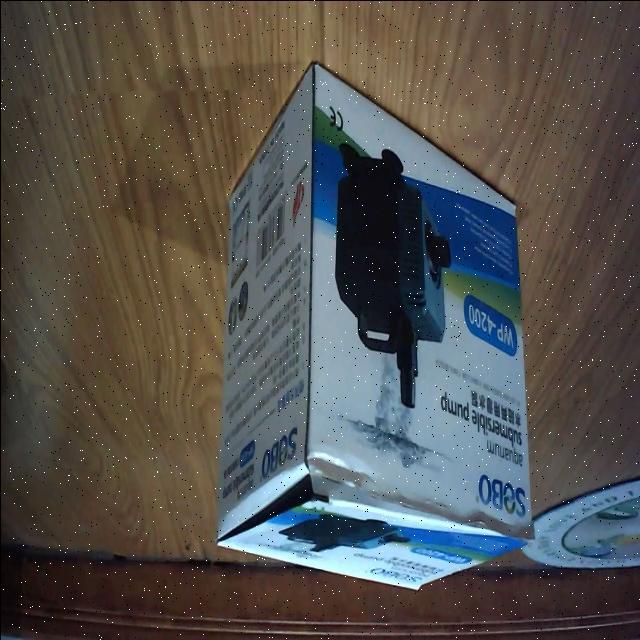SOBO_WP_4200: (212, 55, 538, 600)
